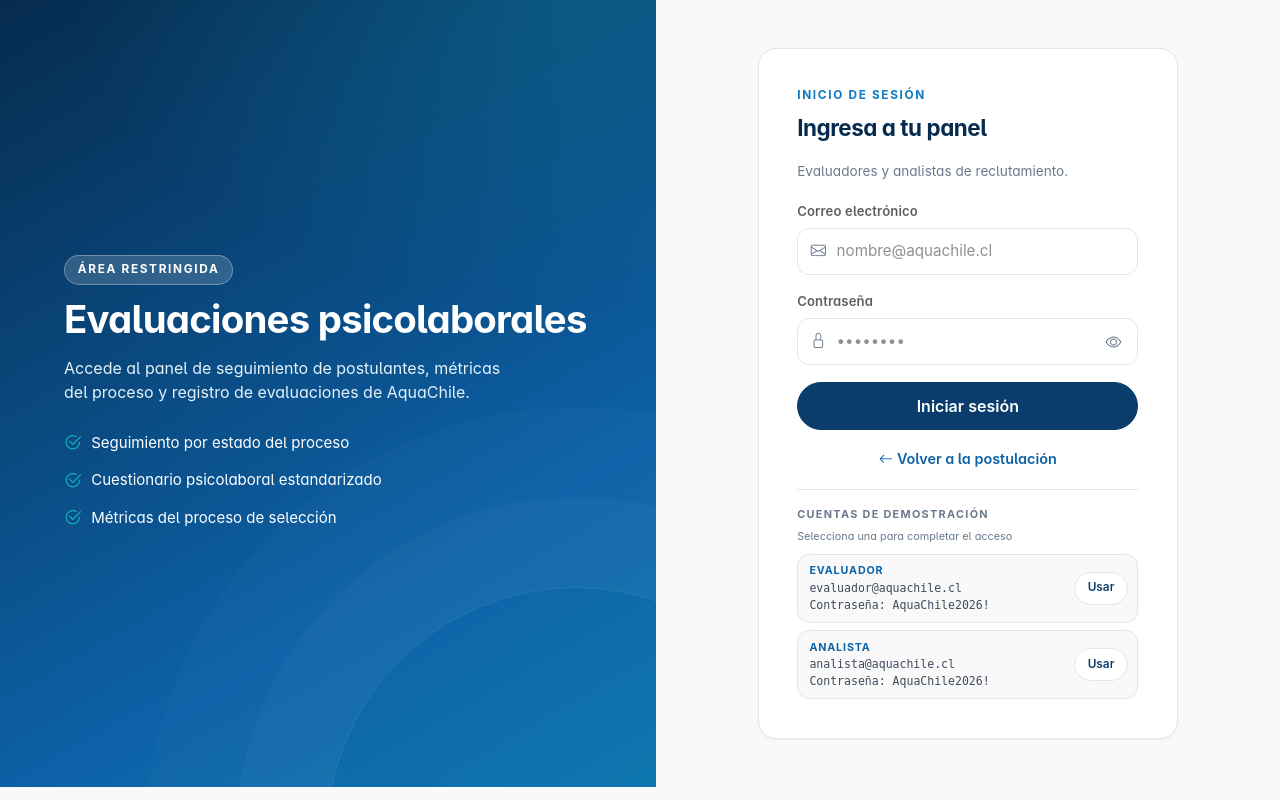
Login › completa las credenciales al usar una cuenta demo
Click the button with aria-label "Usar cuenta de evaluador" at [1101, 588], box [1074,572,1128,605]
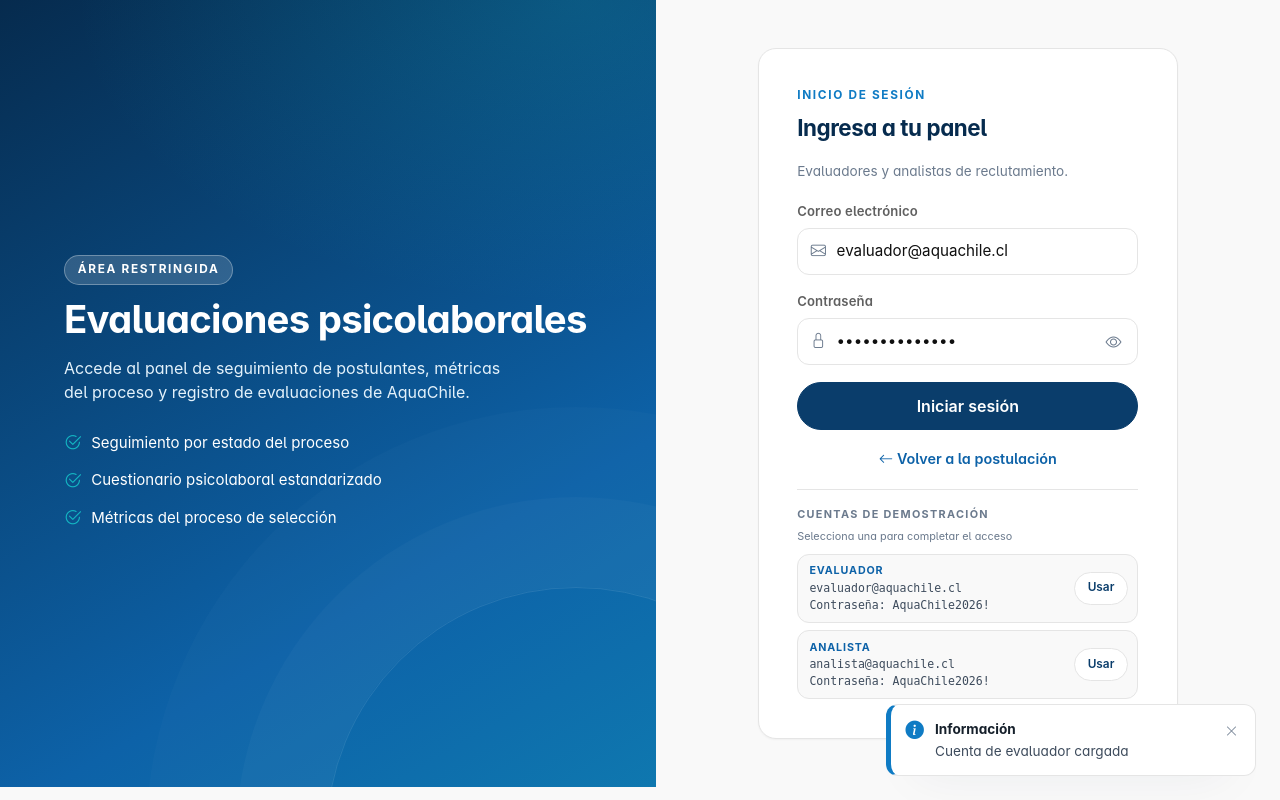
Expected: the field with id "email" holds "evaluador@aquachile.cl", [797,228,1138,275]
Expected: the password field labelled "Contraseña" holds "AquaChile2026!", [797,318,1138,365]
